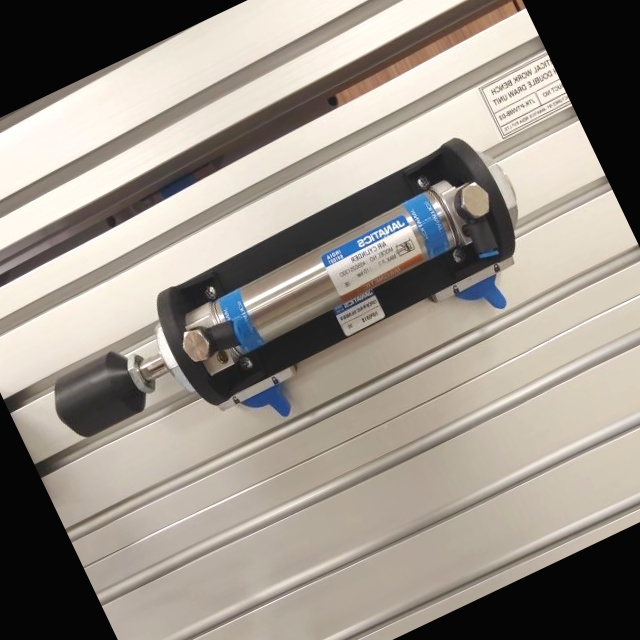double acting pneumatic cylinder: (13, 113, 568, 517)
